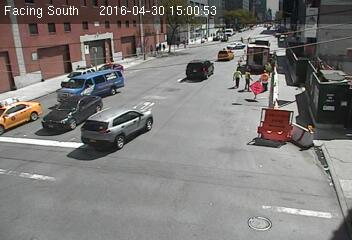neg: (25, 129, 47, 159), (102, 141, 124, 169), (214, 84, 235, 111), (47, 189, 66, 215), (159, 210, 178, 236), (78, 90, 97, 115), (314, 164, 333, 189), (286, 46, 304, 70), (268, 120, 285, 143), (247, 9, 263, 31), (213, 18, 229, 40), (168, 19, 184, 40), (220, 169, 235, 189), (149, 166, 162, 183), (189, 102, 201, 119), (124, 85, 136, 100), (107, 27, 117, 41), (187, 67, 195, 78), (252, 42, 258, 51)
pos: (255, 70, 274, 95), (239, 68, 255, 90), (229, 68, 244, 88), (262, 61, 275, 78), (145, 43, 156, 57), (158, 41, 167, 52), (152, 43, 161, 54), (238, 35, 245, 44), (155, 39, 162, 48)
